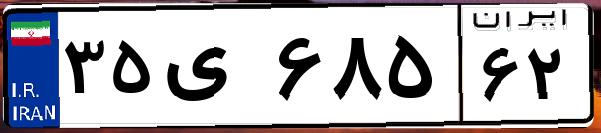2: (525, 38, 570, 115)
3: (57, 26, 110, 100)
5: (385, 28, 445, 110), (110, 28, 158, 98)
6: (270, 28, 330, 110), (475, 38, 525, 113)
8: (330, 28, 385, 110)
ی: (158, 20, 270, 120)
